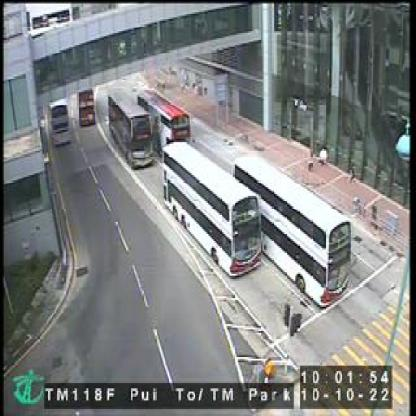Bus: (231, 154, 352, 306), (164, 142, 261, 278), (107, 94, 154, 169), (137, 92, 192, 154), (45, 96, 72, 148), (71, 79, 98, 123)
